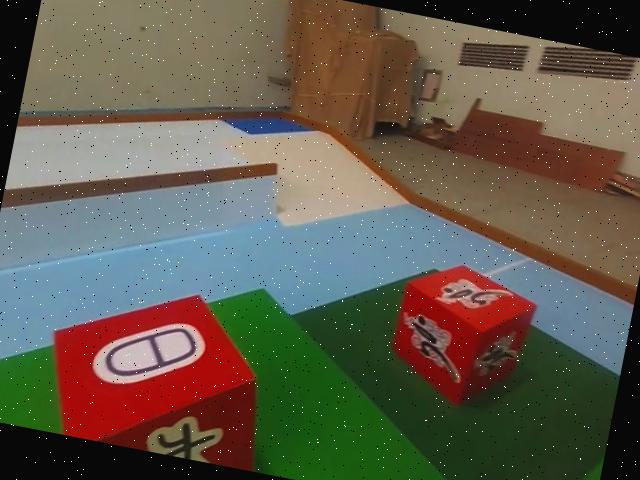R1: (378, 253, 544, 415)
R2 Fake: (36, 268, 290, 473)
